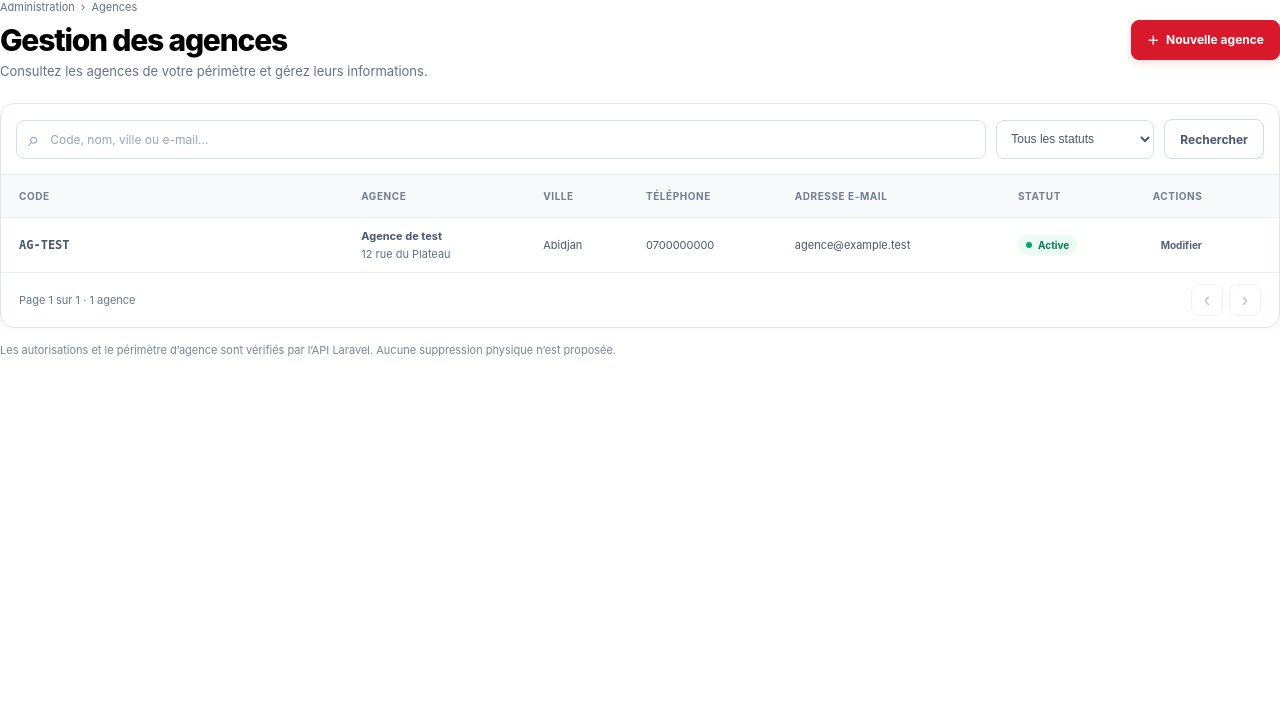
Test case: creates an agency with the Laravel request fields
Expected: the text "Agence de test" is shown, [361, 228, 442, 242]
Click the button "＋ Nouvelle agence".
click(1206, 40)  # box [1131, 20, 1279, 60]
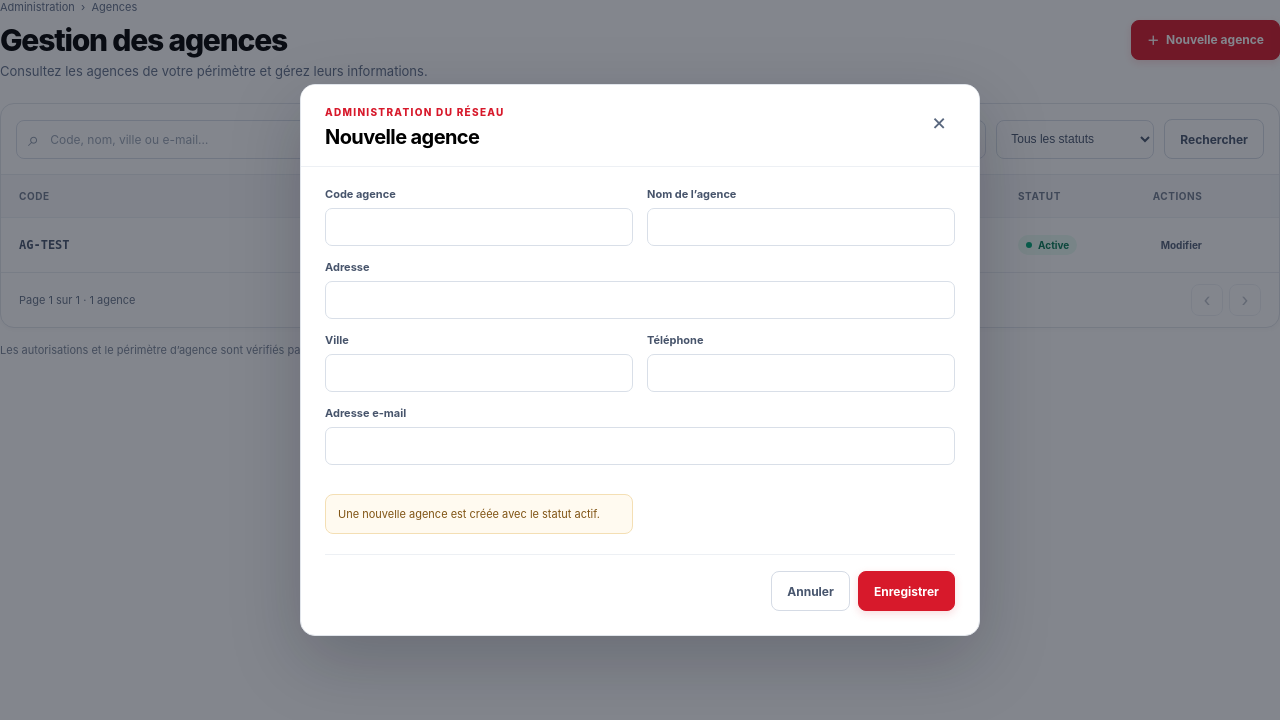
Type "AG-NOUV" into the field labelled "Code agence".
click(479, 227); type("AG-NOUV")  # box [325, 208, 633, 246]
Type "Agence Nouvelle" into the field labelled "Nom de l’agence".
click(801, 227); type("Agence Nouvelle")  # box [647, 208, 955, 246]
Type "25 rue Centrale" into the field labelled "Adresse".
click(640, 300); type("25 rue Centrale")  # box [325, 281, 955, 319]
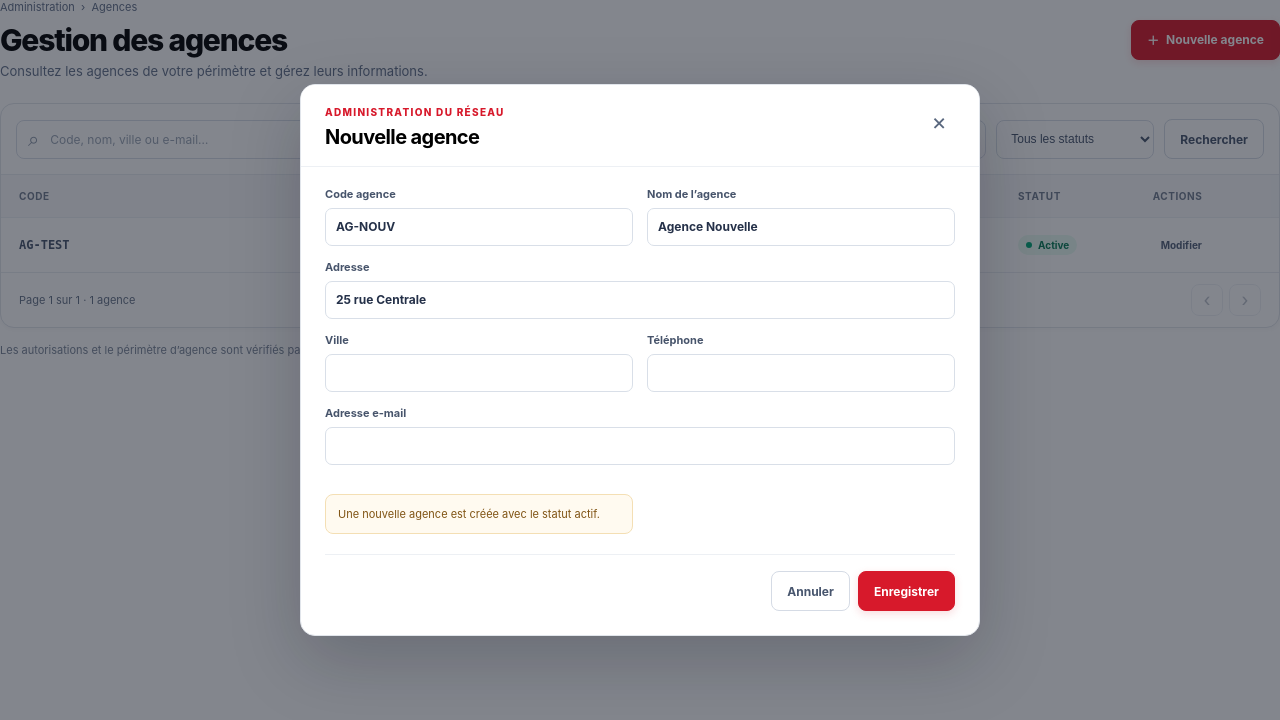
Type "Abidjan" into the field labelled "Ville".
click(479, 373); type("Abidjan")  # box [325, 354, 633, 392]
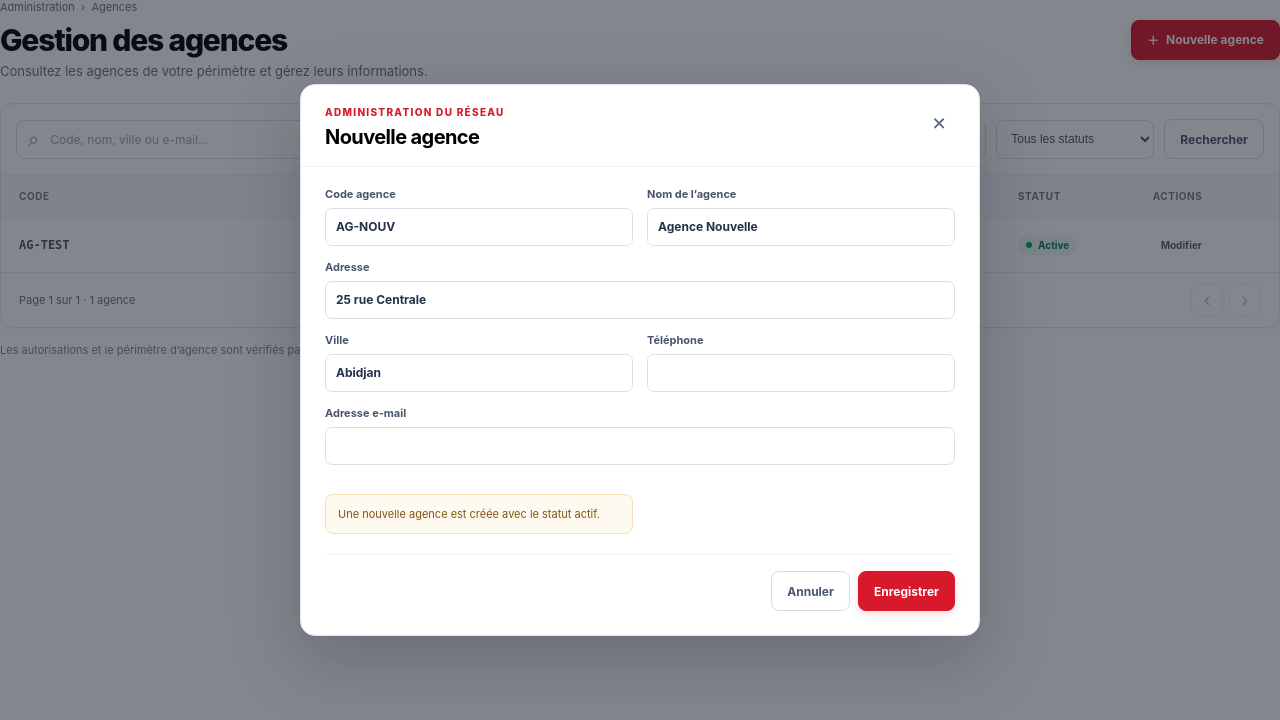
Type "0701234567" into the field labelled "Téléphone".
click(801, 373); type("0701234567")  # box [647, 354, 955, 392]
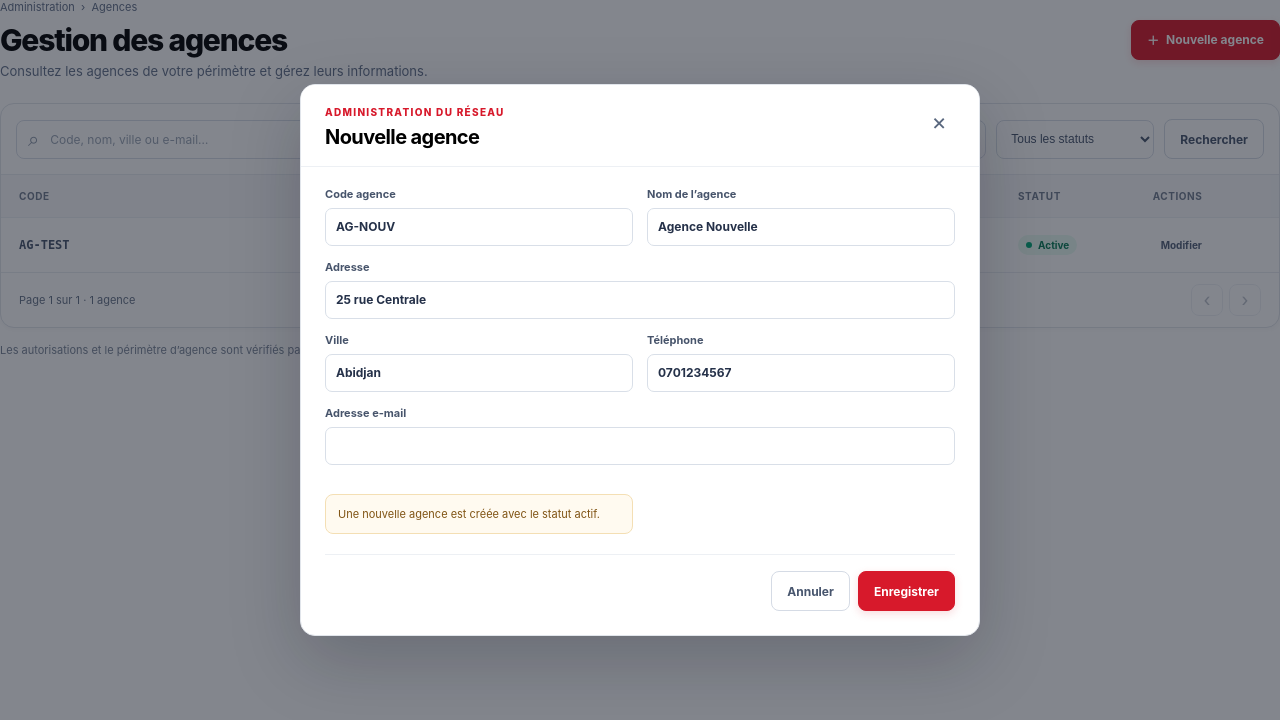
Type "nouvelle@example.test" into the field labelled "Adresse e-mail".
click(640, 446); type("nouvelle@example.test")  # box [325, 427, 955, 465]
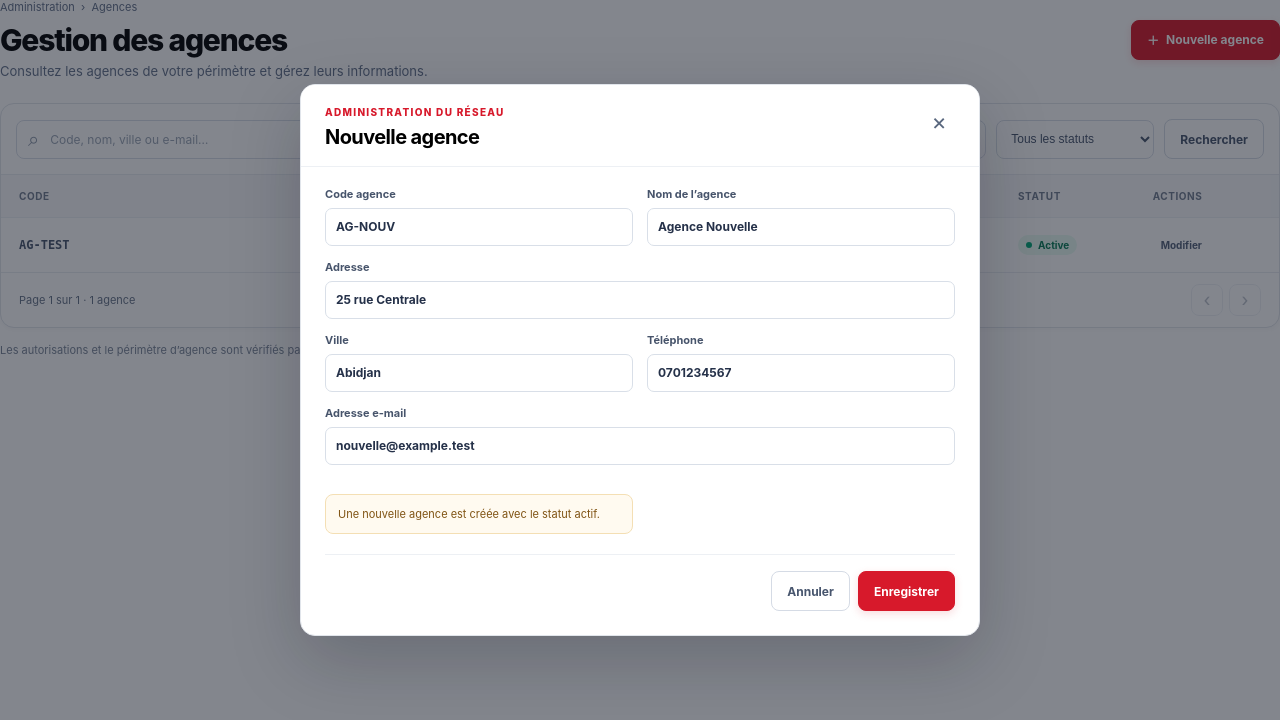
Click the button "Enregistrer".
click(906, 591)  # box [858, 571, 955, 611]
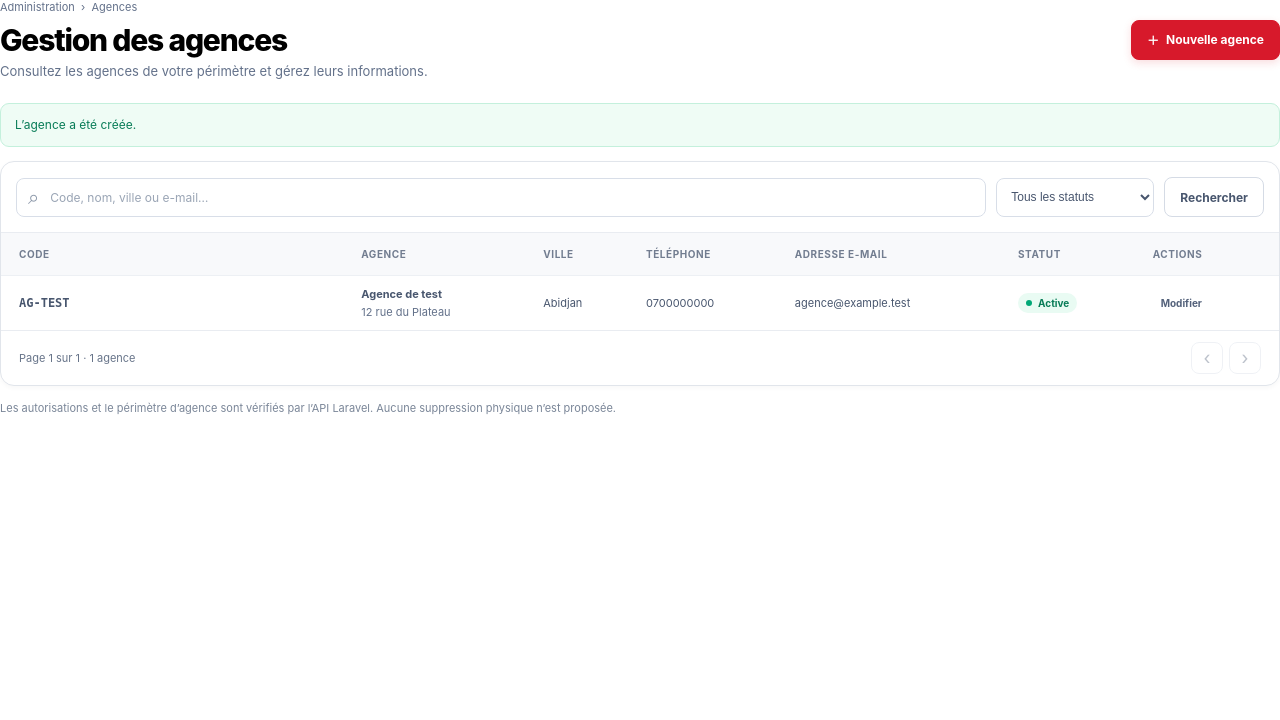
Expected: the message reads "L’agence a été créée.", [15, 117, 136, 132]
